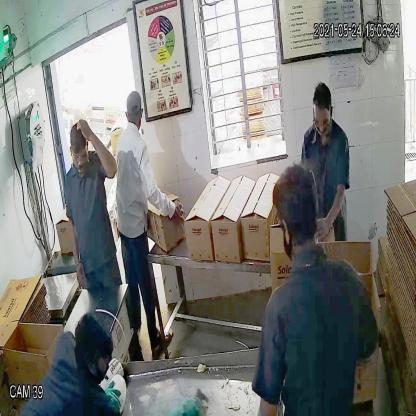goggles: (70, 145, 89, 162)
